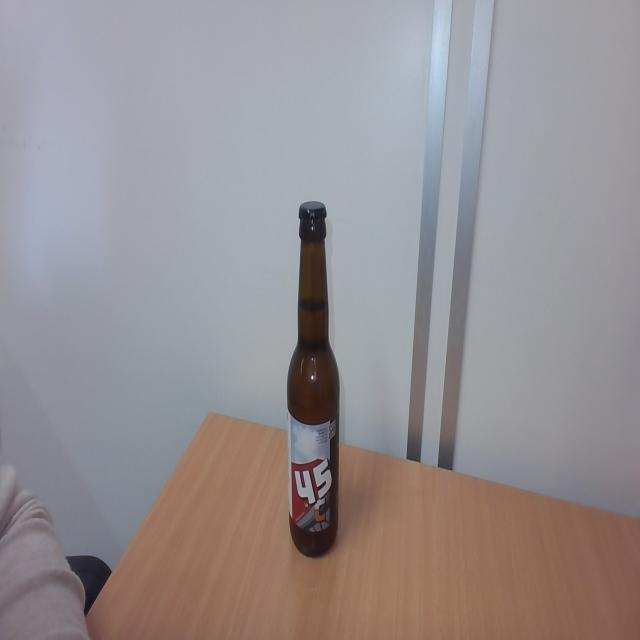Bottle: (290, 224, 340, 556)
Cap: (297, 197, 328, 223)
Label: (288, 415, 338, 531)
